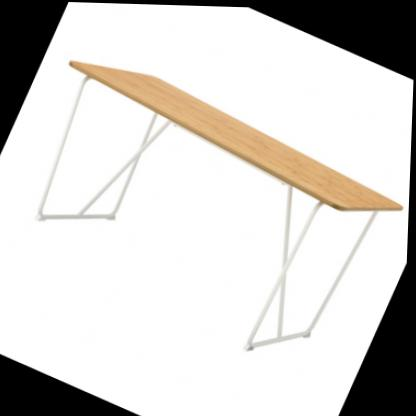Table: (0, 34, 415, 392)
